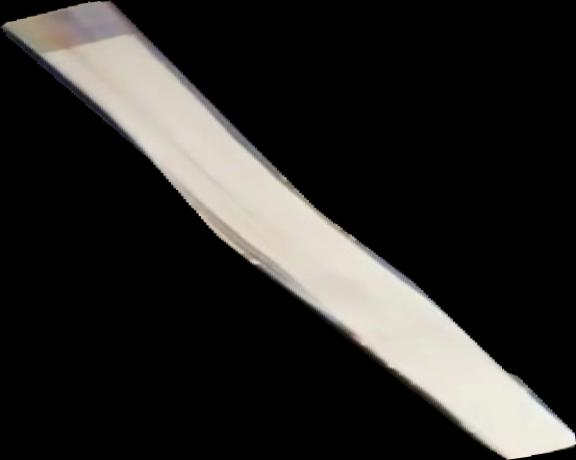backward: (1, 1, 576, 460)
